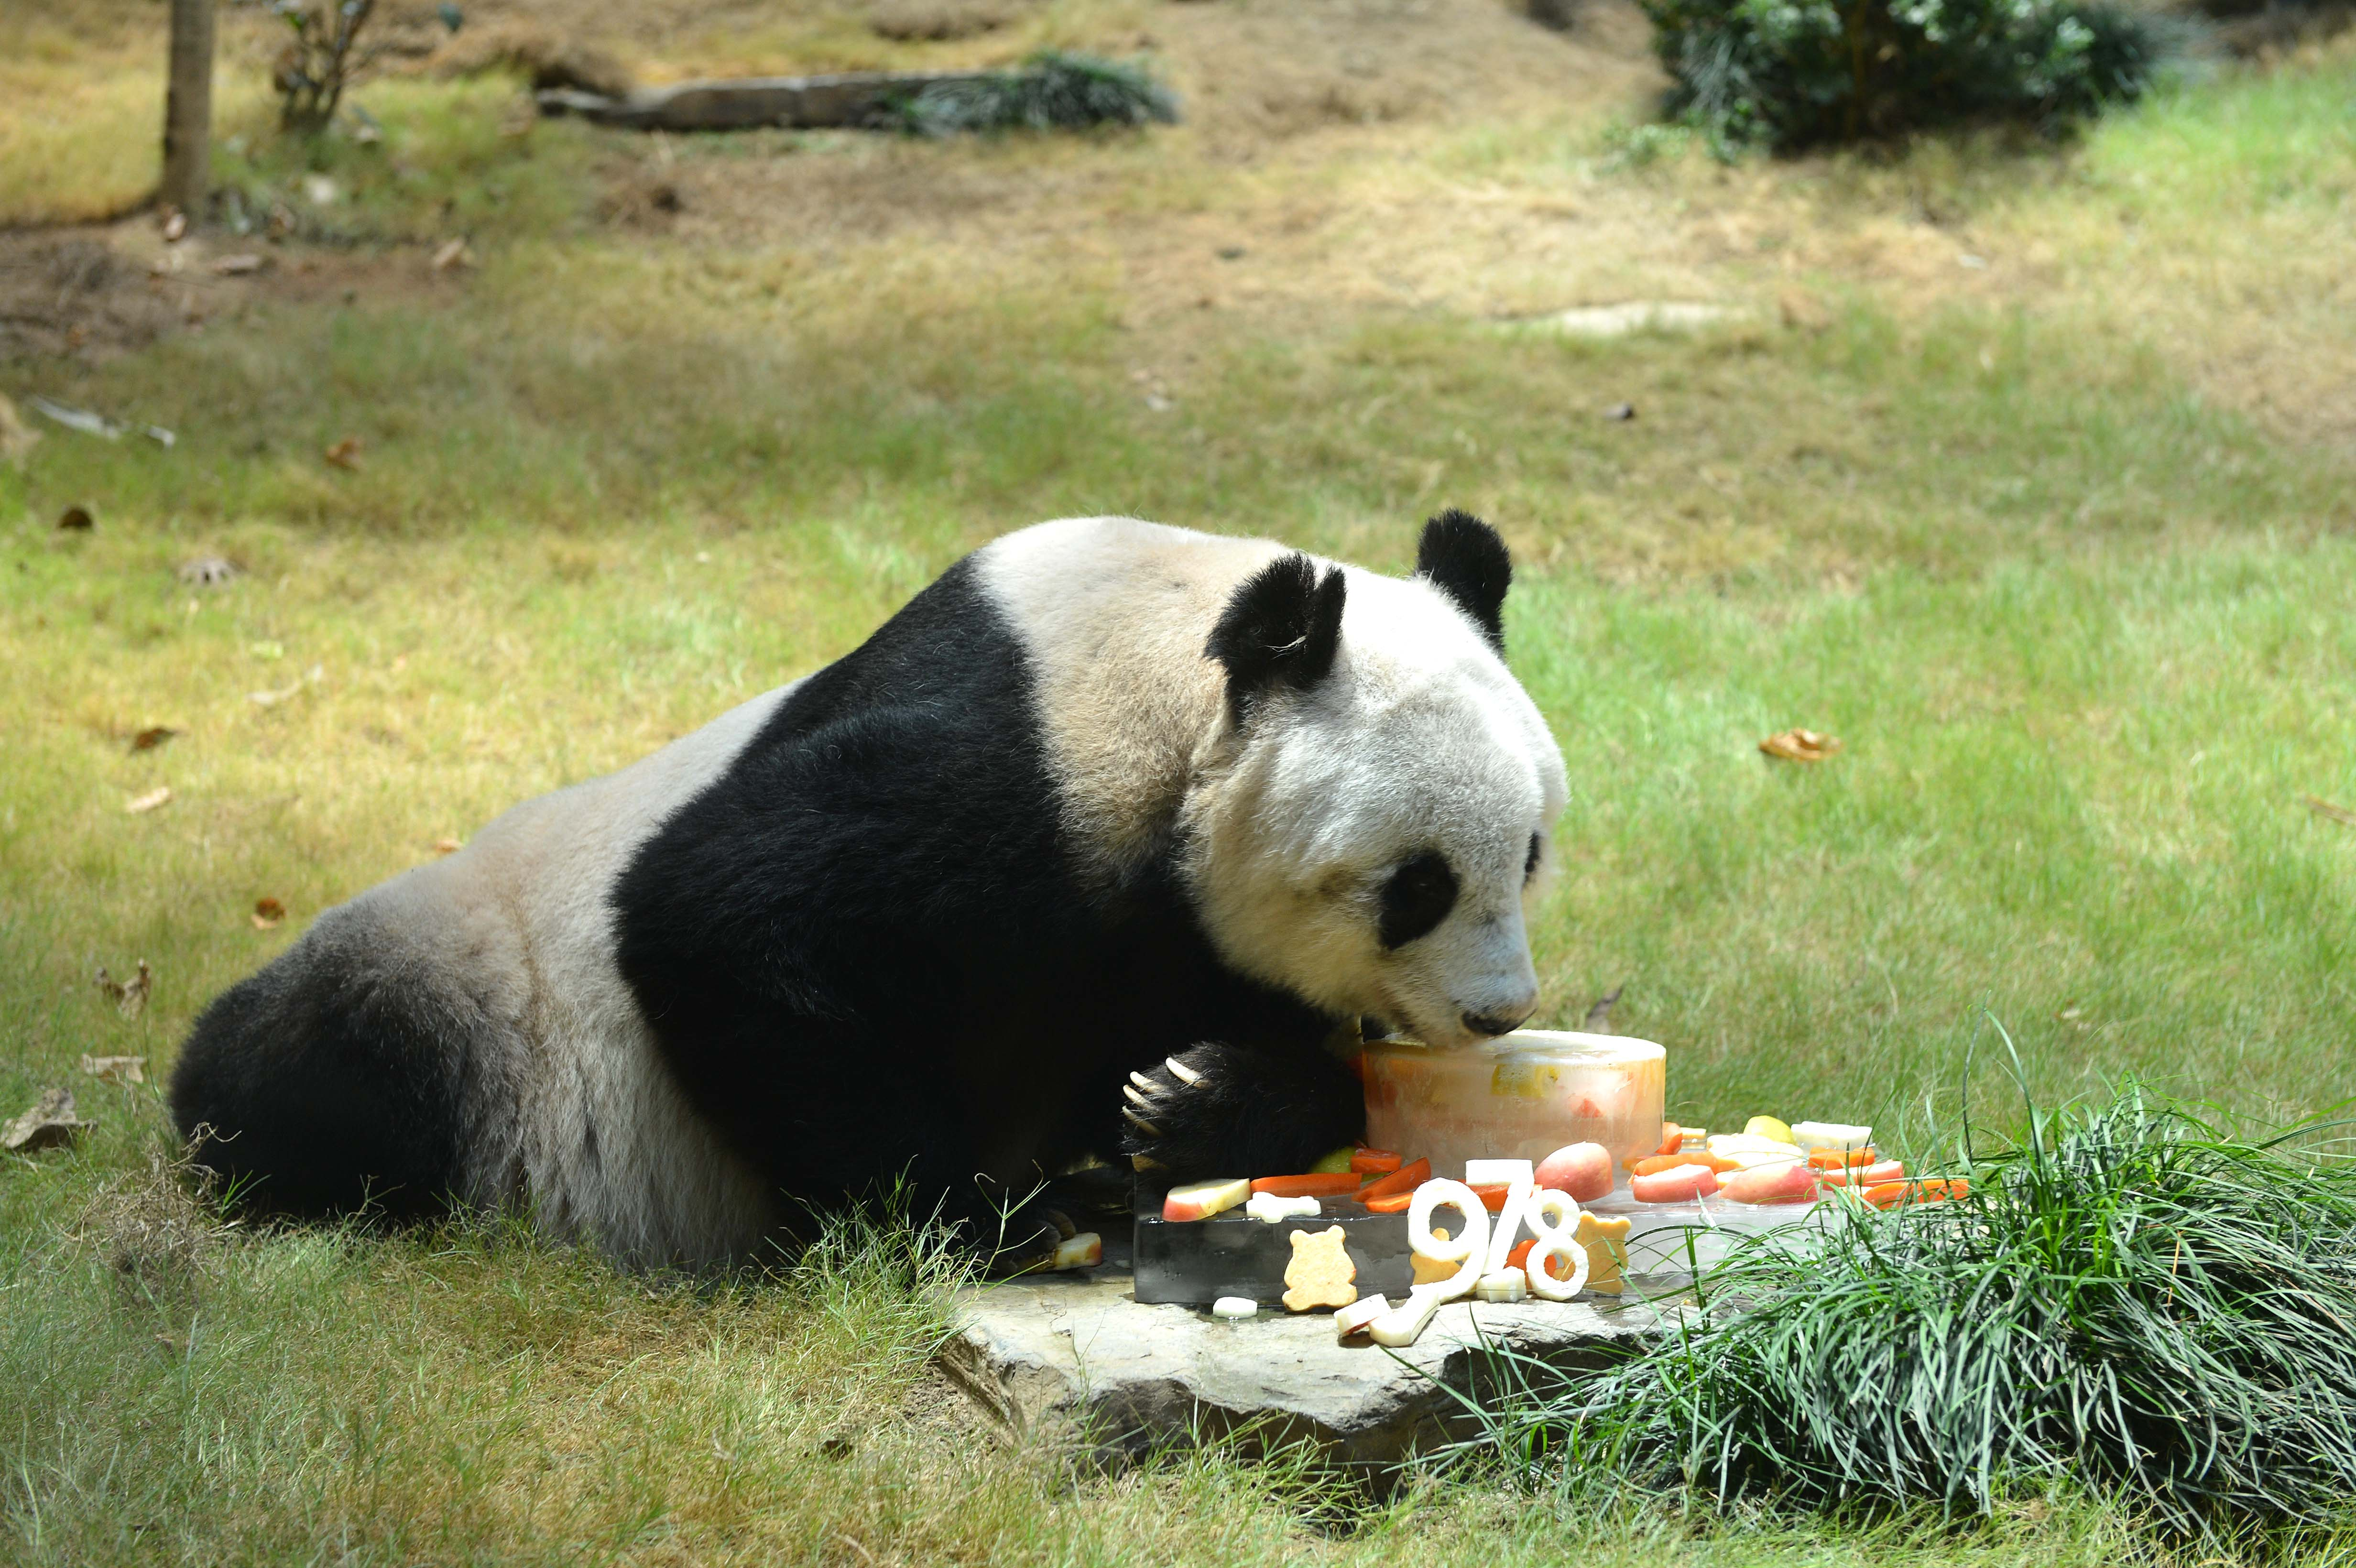panda: (137, 439, 1686, 1288)
